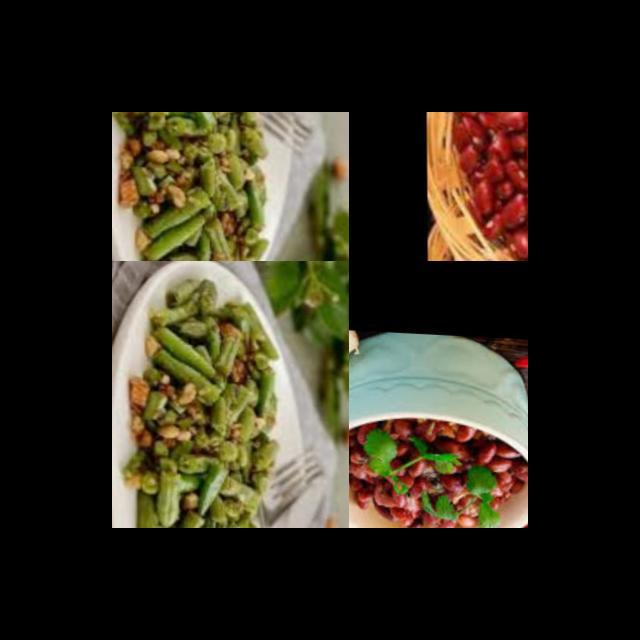garlic: (349, 327, 366, 375)
